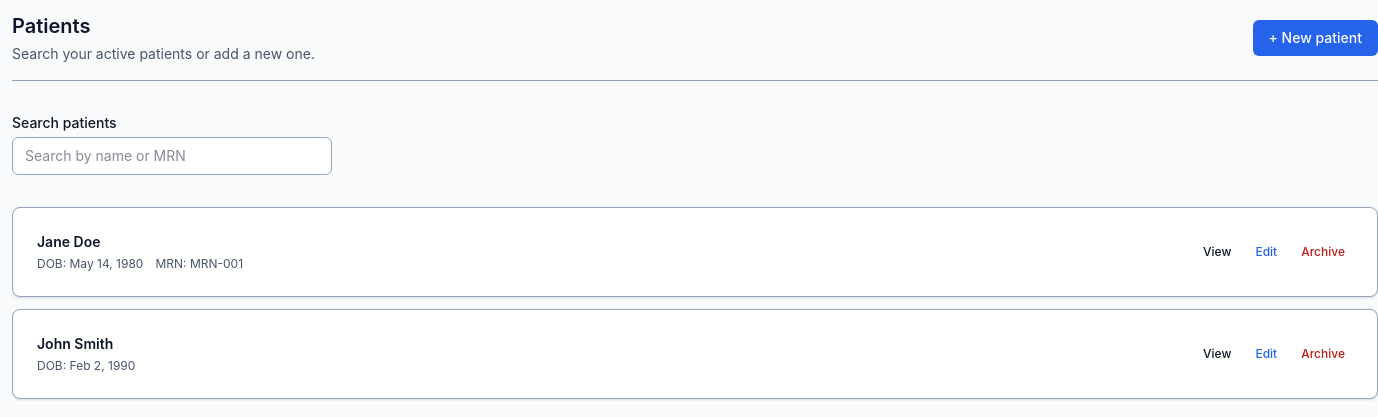
it: PatientsPage › searches by external MRN
The width and height of the screenshot is (1378, 417).
Expected: the link "Jane Doe" is shown, 37,233 -> 100,250
Type "mrn-001" into the search field labelled "Search patients". click: (172, 156)
box: 12,137 -> 332,175
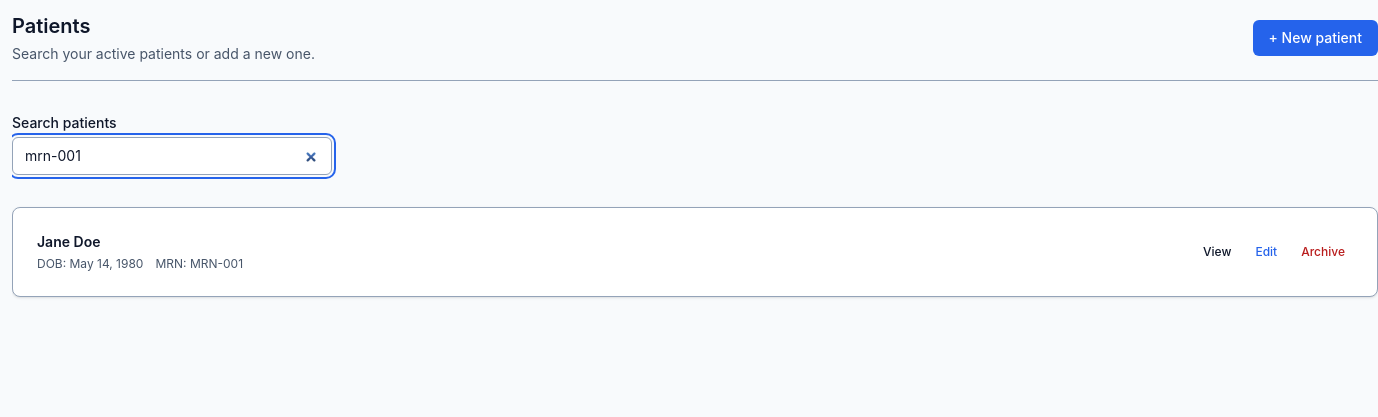
Expected: the link "Jane Doe" is shown, 37,233 -> 100,250
Expected: the link "John Smith" is gone
